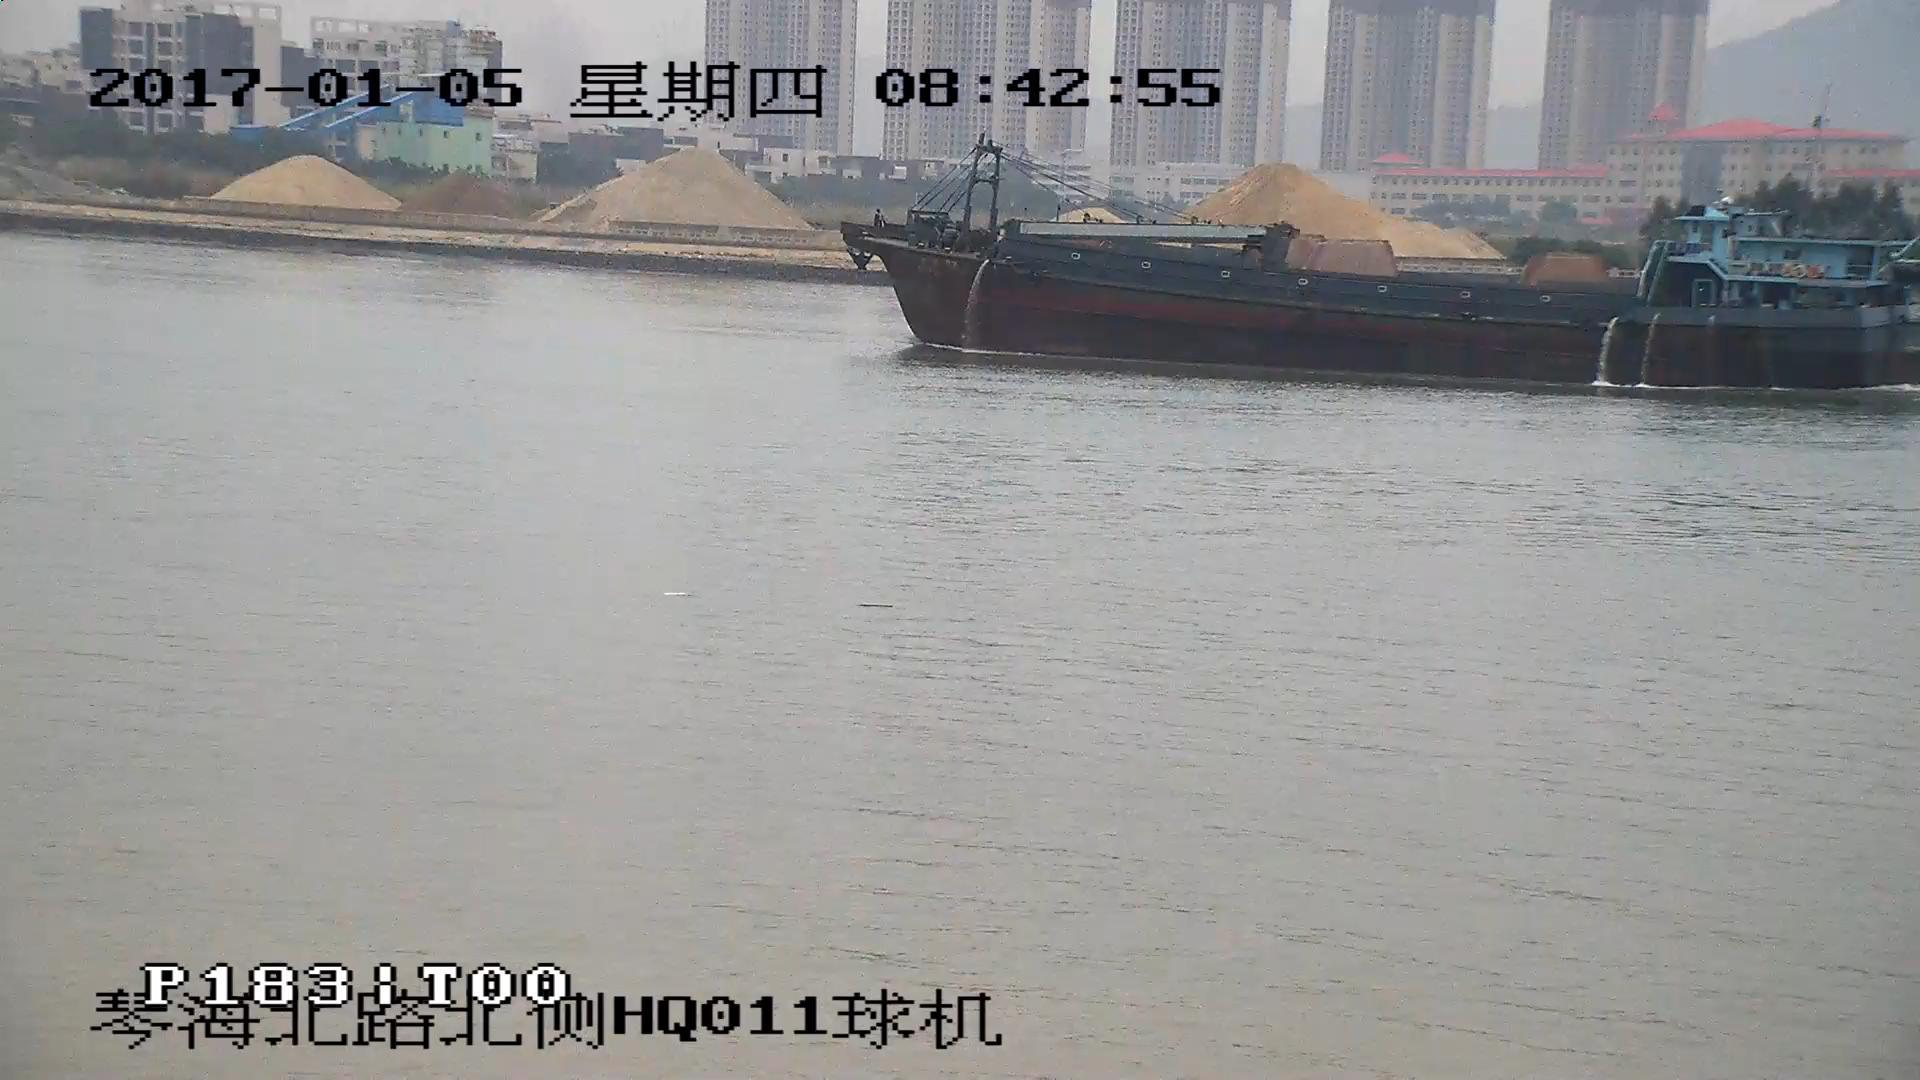Ship: (845, 152, 1920, 392)
